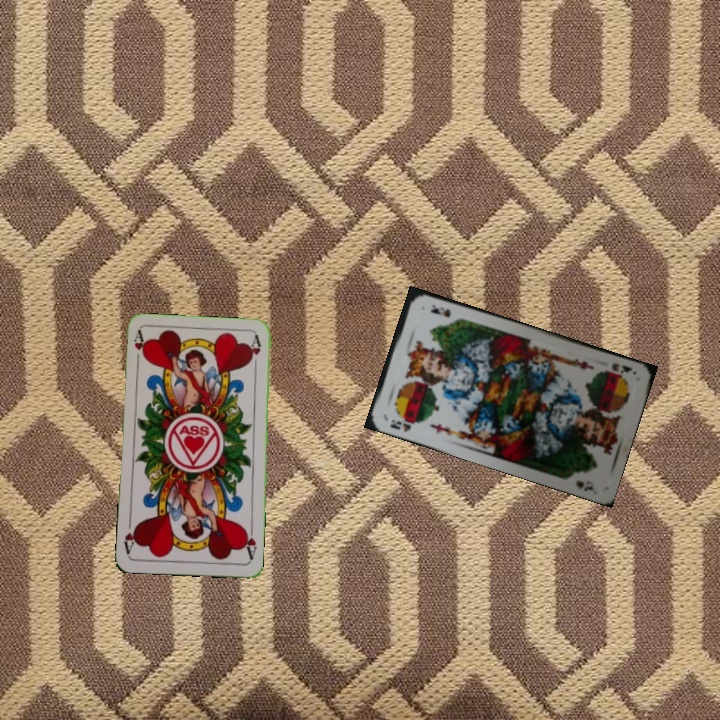HA: (130, 327, 149, 368), (240, 522, 259, 562)
SK: (386, 412, 423, 434), (601, 359, 635, 379)
